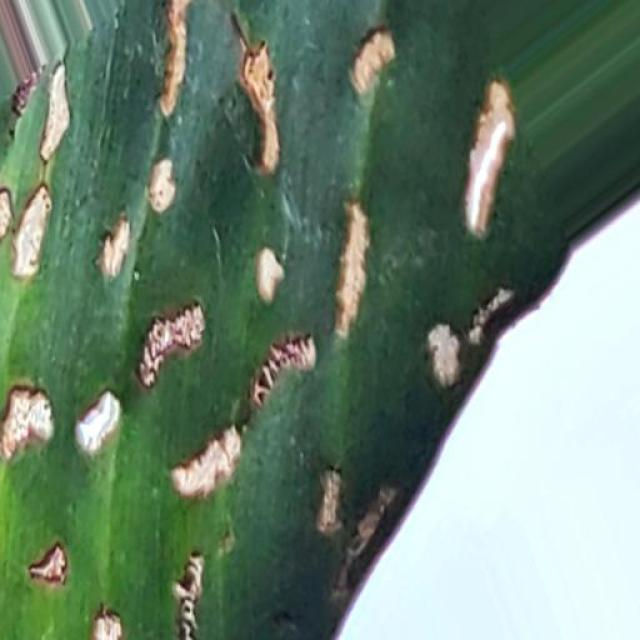Black_rot: (3, 0, 564, 640)
